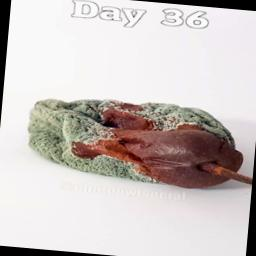Pear Rotten: (28, 100, 249, 218)
